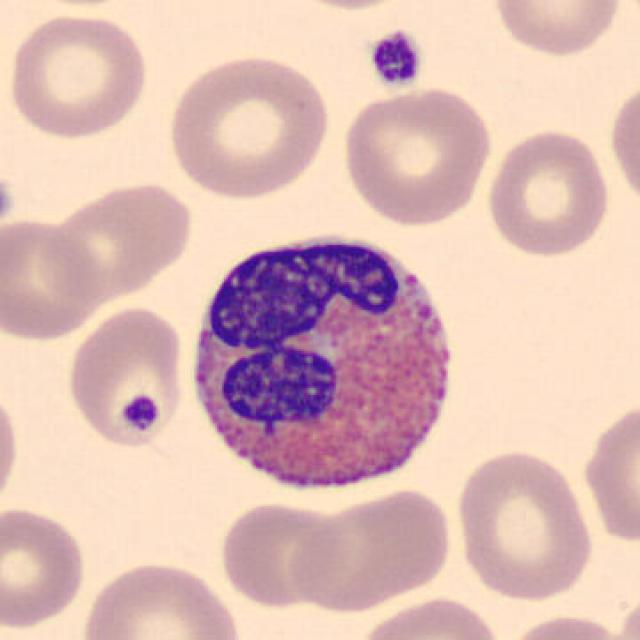Eosinophil: (181, 214, 471, 512)
Platelets: (364, 28, 425, 92), (119, 391, 162, 439)
RBC: (164, 48, 334, 201), (452, 444, 598, 605), (338, 84, 496, 228), (286, 485, 455, 613), (3, 11, 153, 141), (42, 176, 196, 302), (63, 302, 188, 452), (482, 123, 613, 261), (215, 497, 349, 610), (0, 213, 108, 345), (77, 557, 247, 640), (0, 502, 89, 633), (580, 395, 638, 548), (487, 0, 626, 60), (350, 592, 507, 640), (604, 77, 640, 212), (500, 610, 634, 640), (0, 381, 23, 518), (265, 0, 423, 14), (614, 585, 638, 640)
